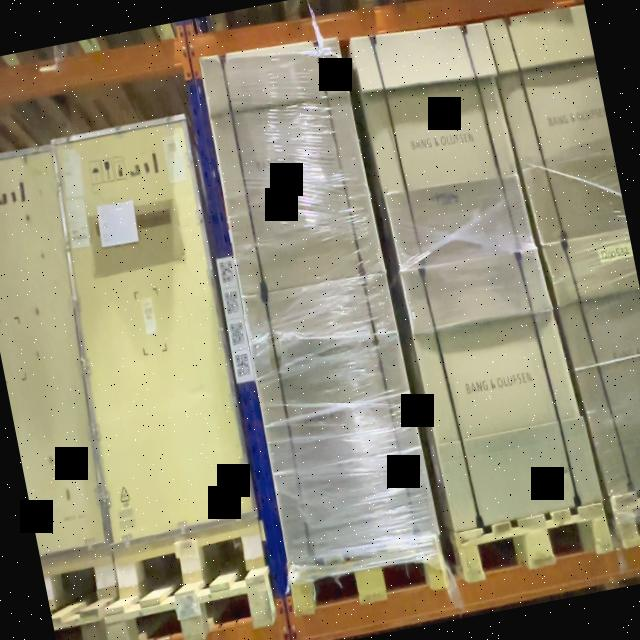box: (49, 115, 258, 551), (238, 272, 436, 564), (402, 247, 599, 533), (202, 35, 382, 294), (354, 23, 539, 270)
